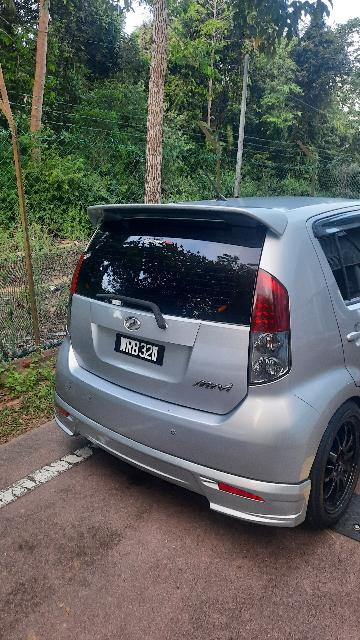License_Plate: (110, 334, 171, 369)
car: (44, 189, 360, 535)
